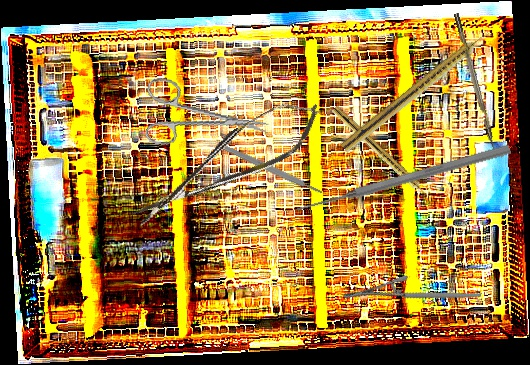Chopper: (453, 11, 505, 160)
Handpiece: (339, 25, 496, 157), (329, 105, 433, 202)
Iris Scissors: (138, 75, 274, 164)
Micro Scissor: (119, 89, 332, 237)
Needle Holder: (342, 251, 482, 341)
Pusher: (295, 141, 512, 217)
Scalpel Handle: (215, 141, 324, 196)
